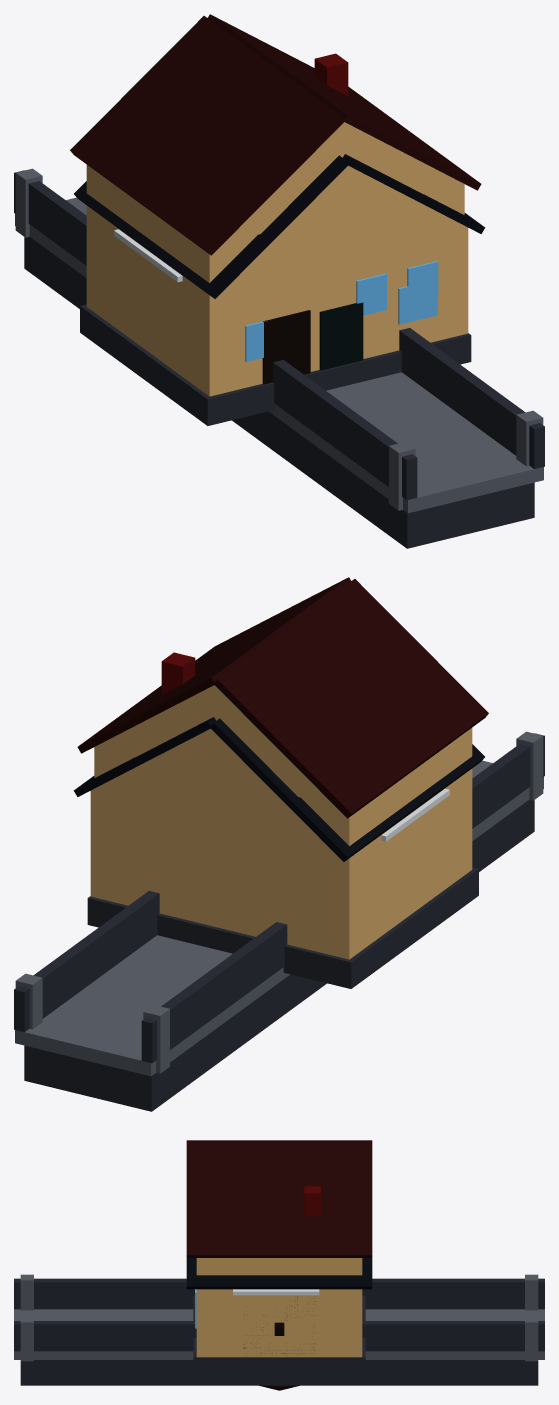
Rendered from riverside_kit.glb.
3 renders of one model, top to bottom at view 1: azimuth 30°, elevation 25°; view 2: azimuth 150°, elevation 25°; view 3: azimuth 270°, elevation 25°, orthographic. The views are drawn at different scales.
Parts seen in each view (by area): view 1: SM_RS_Mill, SM_RS_Bridge, SM_RS_Cottage, SM_RS_Shelter; view 2: SM_RS_Mill, SM_RS_Bridge, SM_RS_Cottage, SM_RS_Shelter; view 3: SM_RS_Bridge, SM_RS_Mill, SM_RS_Cottage, SM_RS_Shelter.
Boxes of the visible parts, x1,y1,x2,y2 form: SM_RS_Mill: (70,14,481,425); SM_RS_Bridge: (14,168,544,548); SM_RS_Cottage: (74,53,485,394); SM_RS_Shelter: (114,229,182,282); SM_RS_Mill: (77,577,488,988); SM_RS_Bridge: (14,731,544,1111); SM_RS_Cottage: (73,652,484,958); SM_RS_Shelter: (381,788,449,841); SM_RS_Bridge: (14,1274,544,1385); SM_RS_Mill: (186,1140,372,1375); SM_RS_Cottage: (186,1186,372,1357); SM_RS_Shelter: (233,1289,319,1356).
Size of the model in its own units: 6.62 by 8.14 by 16.
Materials: 12 (12 with a texture image).
